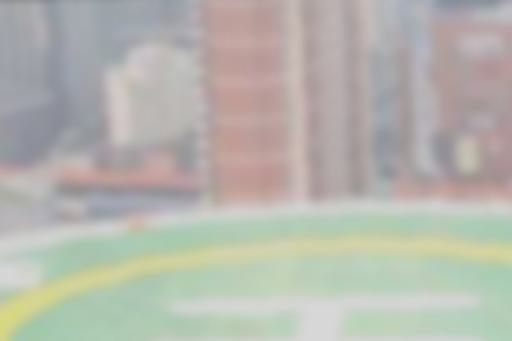Apron: (1, 212, 512, 341)
